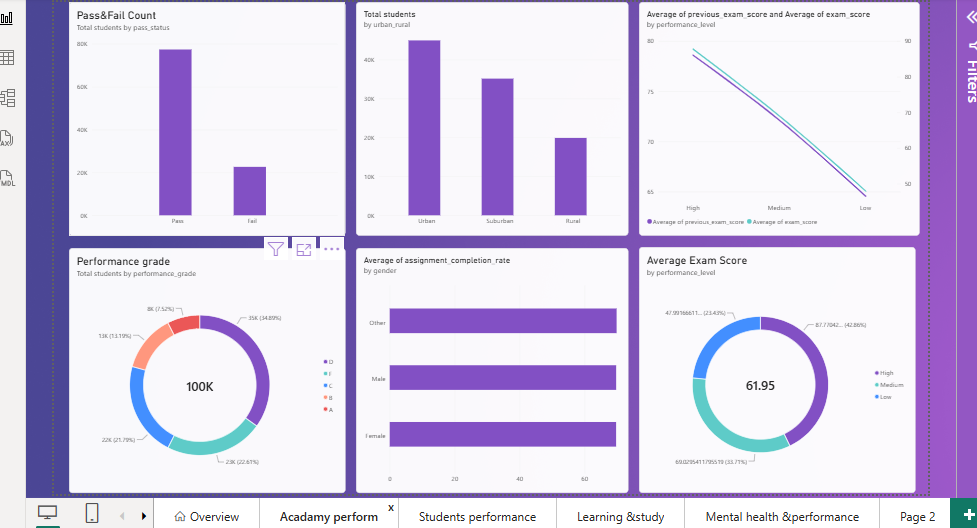

This screenshot's page, from the dashboard's own definition file:
{"tool":"powerbi","page":{"name":"Acadamy perform","canvas":[1920,1080],"ordinal":1},"visuals":[{"type":"donutChart","title":"Performance grade","fields":{"Category":["student_exam_performance.performance_grade"],"Y":["student_exam_performance.Total students"]},"box":[32.1,540.7,607.2,538.4],"z":0},{"type":"columnChart","title":"Pass&Fail Count","fields":{"Category":["student_exam_performance.pass_status"],"Y":["student_exam_performance.Total students"]},"box":[32.1,0,607.2,513.2],"z":1000},{"type":"donutChart","fields":{"Category":["student_exam_performance.performance_level"],"Y":["student_exam_performance.Average Exam Score"]},"box":[1283.1,538.4,607,540],"z":2000},{"type":"clusteredColumnChart","fields":{"Category":["student_exam_performance.urban_rural"],"Y":["student_exam_performance.Total students"]},"box":[662.1,0,598,513.2],"z":3000},{"type":"lineChart","fields":{"Category":["student_exam_performance.performance_level"],"Y":["Avg(student_exam_performance.previous_exam_score)"],"Y2":["Avg(student_exam_performance.exam_score)"]},"box":[1283.1,0,616.3,513.2],"z":4000},{"type":"barChart","fields":{"Category":["student_exam_performance.gender"],"Y":["Avg(student_exam_performance.assignment_completion_rate)"]},"box":[662,541,598,538],"z":4001}]}

Visuals, with their boxes on the page's 1920x1080 design canvas (x1, y1, x2, y2). These are canvas units, not pixel positions in the 977x528 screenshot, which may show the page scaled, cropped or inside an application window:
"Performance grade" donutChart: {"left": 32, "top": 541, "right": 639, "bottom": 1079}
"Pass&Fail Count" columnChart: {"left": 32, "top": 0, "right": 639, "bottom": 513}
donutChart - student_exam_performance.performance_level x student_exam_performance.Average Exam Score: {"left": 1283, "top": 538, "right": 1890, "bottom": 1078}
clusteredColumnChart - student_exam_performance.urban_rural x student_exam_performance.Total students: {"left": 662, "top": 0, "right": 1260, "bottom": 513}
lineChart - student_exam_performance.performance_level x Avg(student_exam_performance.previous_exam_score): {"left": 1283, "top": 0, "right": 1899, "bottom": 513}
barChart - student_exam_performance.gender x Avg(student_exam_performance.assignment_completion_rate): {"left": 662, "top": 541, "right": 1260, "bottom": 1079}
